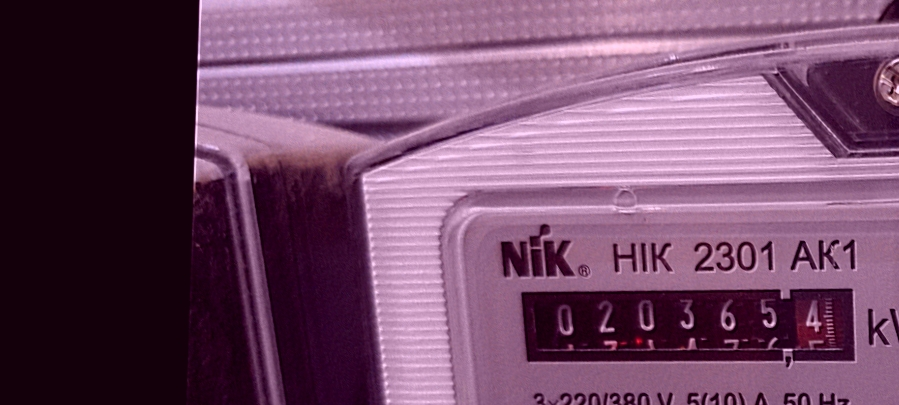0: (636, 295, 656, 331), (554, 300, 575, 334)
2: (593, 296, 617, 332)
3: (677, 293, 696, 329)
4: (803, 295, 823, 330)
5: (757, 294, 778, 327)
6: (717, 294, 737, 330)
screen: (502, 265, 874, 380)
